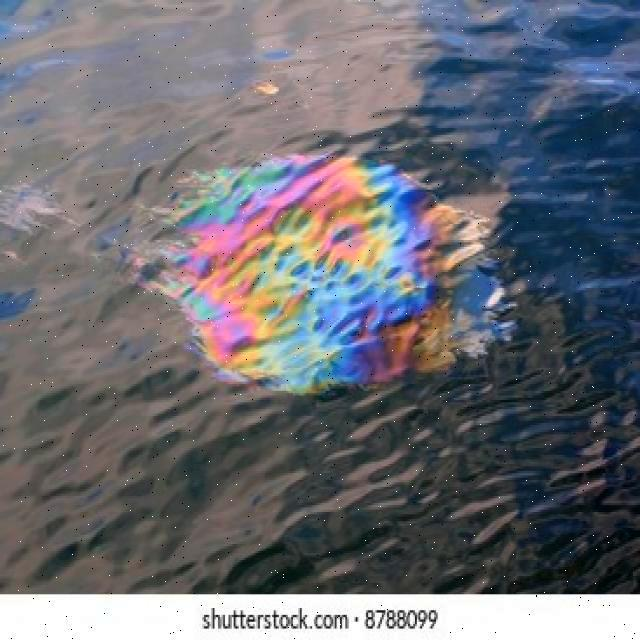oil: (109, 138, 545, 396)
